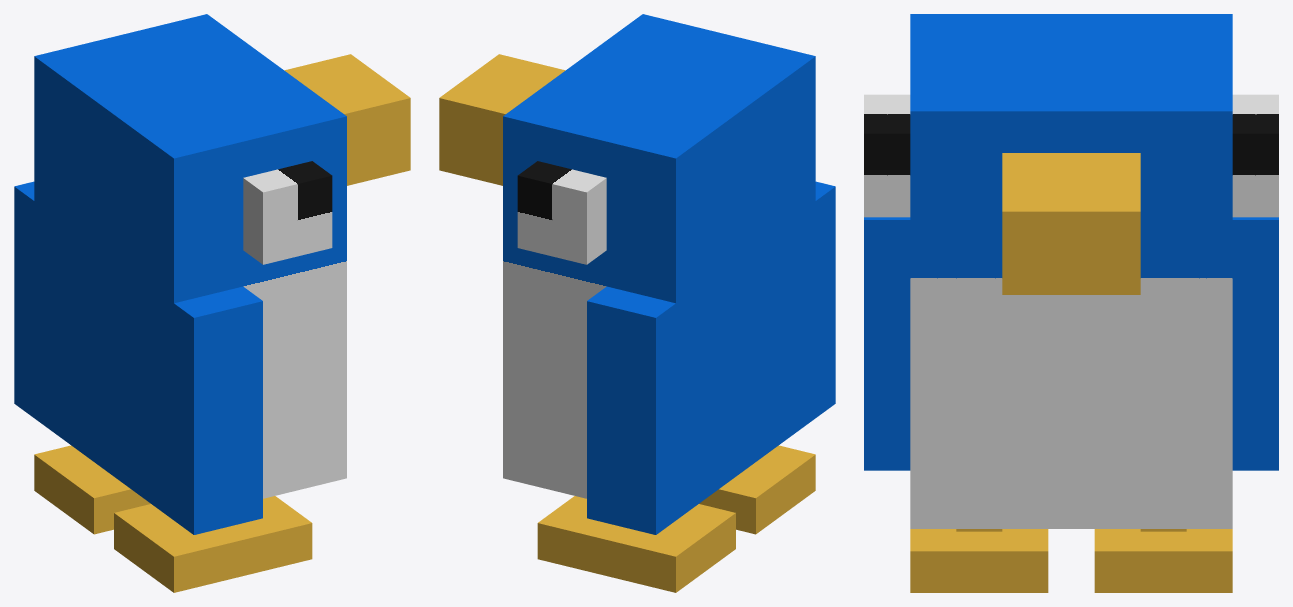
Rendered from Penguin.dae.
3 renders of one model, left to right at view 1: azimuth 30°, elevation 25°; view 2: azimuth 150°, elevation 25°; view 3: azimuth 270°, elevation 25°, orthographic. The views are drawn at different scales.
Visible parts, largest first — view 1: Matrix_1; view 2: Matrix_1; view 3: Matrix_1.
Part boxes in pixels (x1,y1,x2,y2): Matrix_1: (14, 14, 410, 592); Matrix_1: (439, 14, 835, 592); Matrix_1: (864, 14, 1278, 592).
Bounding box in the file's own units: 8 × 12 × 9.
